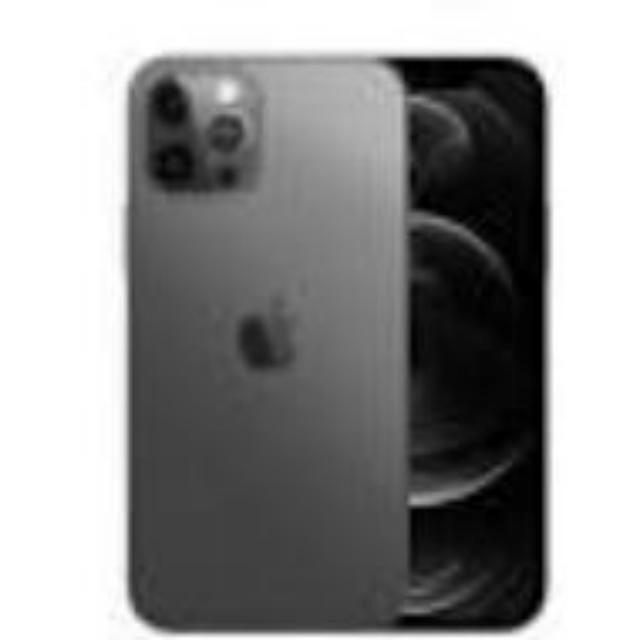fake: (130, 52, 424, 628)
